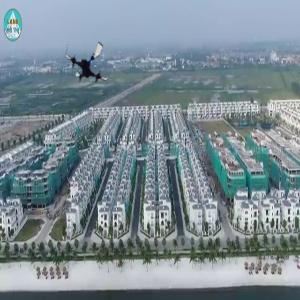drone: (63, 36, 116, 89)
